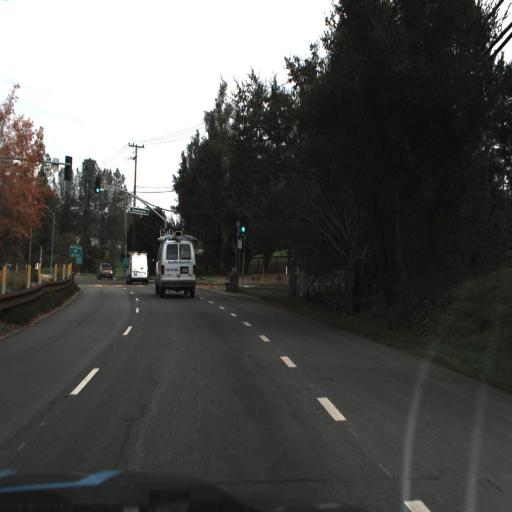car: (156, 233, 198, 299), (128, 248, 151, 287), (97, 256, 114, 282)
trafficLight-Green: (90, 172, 104, 200), (239, 212, 250, 236), (240, 222, 251, 242), (162, 234, 172, 246)
